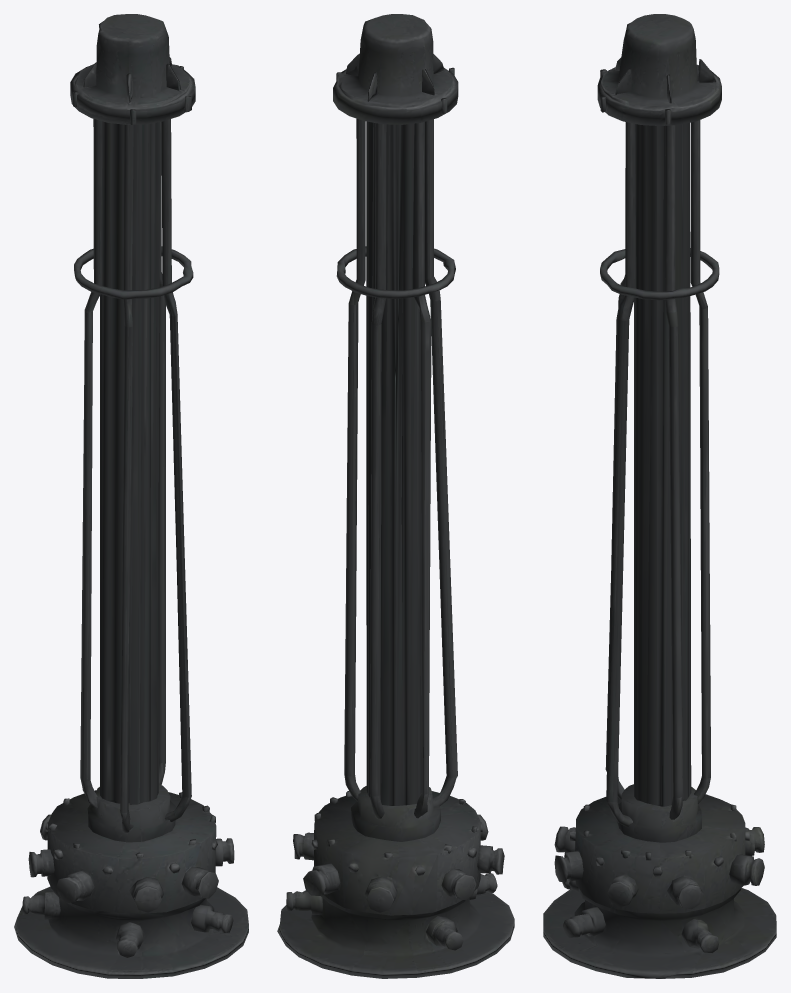
The model's file is coolant-column.glb.
3 views of the same model, side by side, from view 1: azimuth 30°, elevation 25°; view 2: azimuth 150°, elevation 25°; view 3: azimuth 270°, elevation 25° (orthographic).
Bounding box in the file's own units: 0.2347 × 1 × 0.2342.
1 material, 1 textured.
